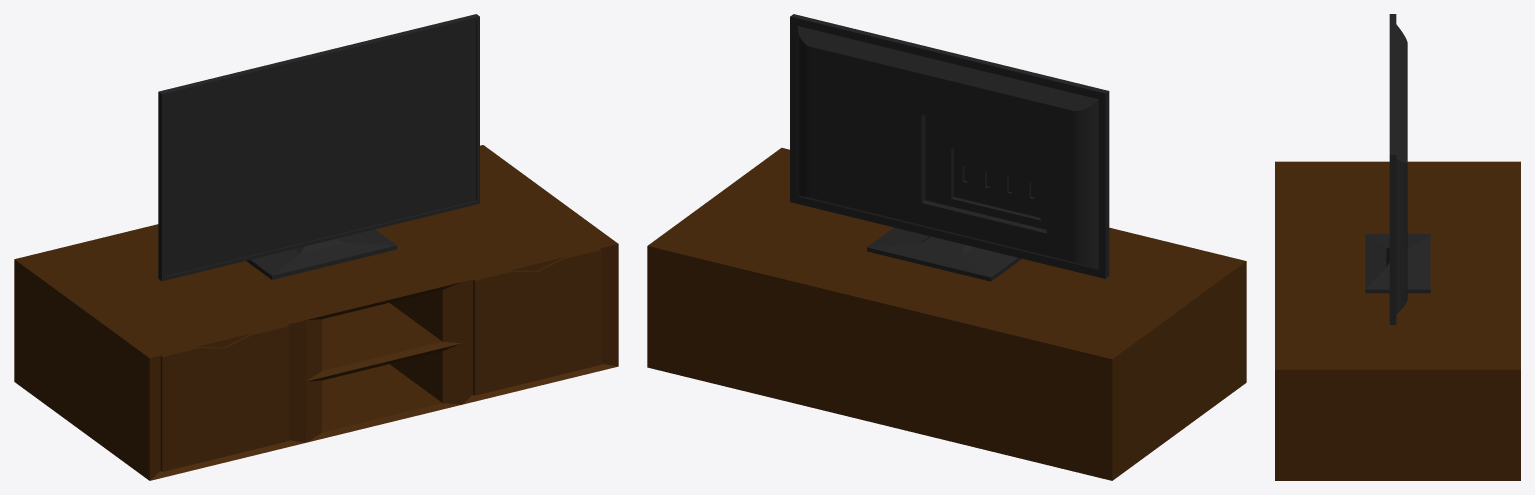
Rendered from TVUnit.fbx.
3 renders of one model, left to right at view 1: azimuth 30°, elevation 25°; view 2: azimuth 150°, elevation 25°; view 3: azimuth 270°, elevation 25°, orthographic. The views are drawn at different scales.
Visible parts, largest first — view 1: TV Unit, TV Screen; view 2: TV Unit, TV Screen; view 3: TV Unit, TV Screen.
Part boxes in pixels (x1,y1,x2,y2): TV Unit: [14, 145, 618, 480]; TV Screen: [158, 14, 479, 281]; TV Unit: [647, 147, 1246, 480]; TV Screen: [790, 14, 1109, 281]; TV Unit: [1275, 161, 1520, 480]; TV Screen: [1365, 14, 1430, 324].
Bounding box in the file's own units: 300 × 197 × 150.
